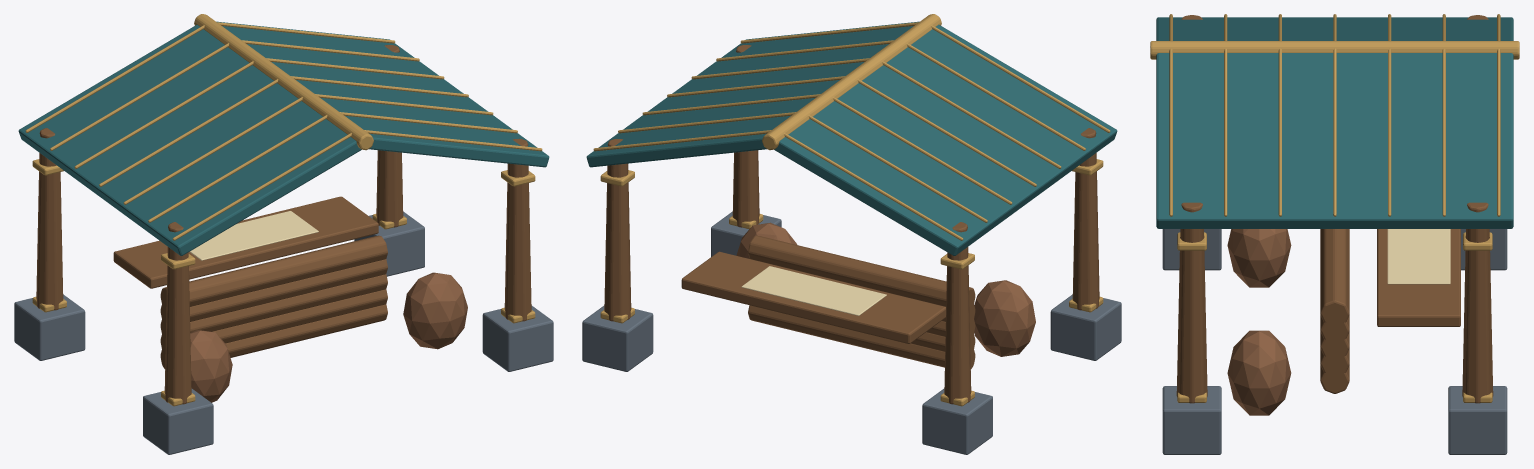
The model's file is castle_lodge.glb.
3 views of the same model, side by side, from view 1: azimuth 30°, elevation 25°; view 2: azimuth 150°, elevation 25°; view 3: azimuth 270°, elevation 25° (orthographic). The views are drawn at different scales.
Parts seen in each view (by area): view 1: RoofPlane.004, CarvedPost.004, PostBand.004, StonePedestal.004, GrainSack.001, Map.001; view 2: RoofPlane.004, CarvedPost.004, PostBand.004, StonePedestal.004, GrainSack.001, Map.001; view 3: RoofPlane.004, CarvedPost.004, PostBand.004, StonePedestal.004, GrainSack.001, Map.001.
Part boxes in pixels (box(x1,y1,x2,y2)): RoofPlane.004: box(18, 21, 549, 255); CarvedPost.004: box(36, 45, 531, 404); PostBand.004: box(25, 14, 542, 406); StonePedestal.004: box(14, 211, 553, 454); GrainSack.001: box(190, 272, 467, 402); Map.001: box(189, 211, 318, 260); RoofPlane.004: box(586, 21, 1117, 255); CarvedPost.004: box(604, 45, 1099, 404); PostBand.004: box(593, 14, 1110, 406); StonePedestal.004: box(582, 211, 1121, 454); GrainSack.001: box(736, 222, 1035, 356); Map.001: box(741, 266, 886, 315); RoofPlane.004: box(1156, 17, 1513, 228); CarvedPost.004: box(1176, 15, 1493, 403); PostBand.004: box(1150, 14, 1519, 402); StonePedestal.004: box(1162, 229, 1507, 454); GrainSack.001: box(1227, 229, 1291, 415); Map.001: box(1387, 229, 1450, 284).
Size of the model in its own units: 5.9 by 4.06 by 4.4.
